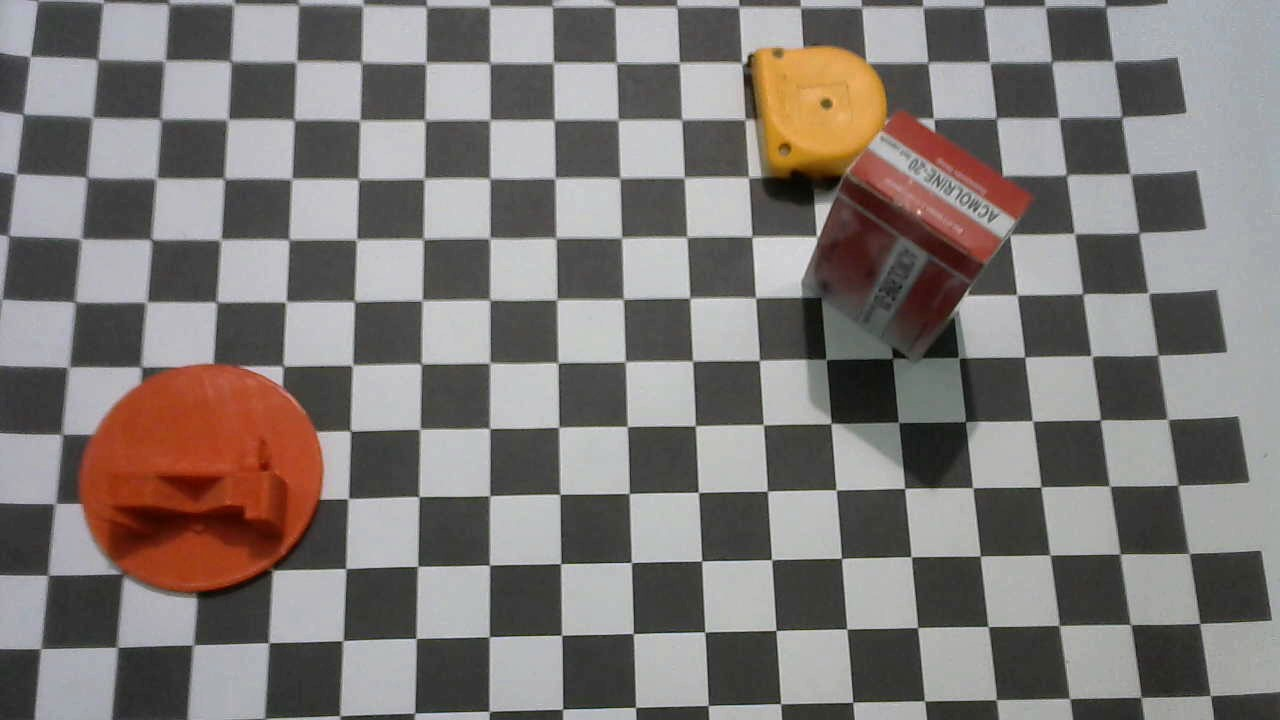blue: (741, 44, 888, 182)
green: (79, 363, 326, 595)
red: (800, 112, 1035, 369)
